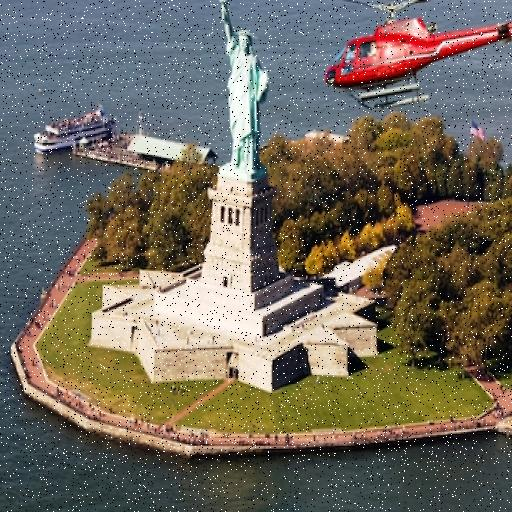helicopter: (282, 1, 512, 111)
